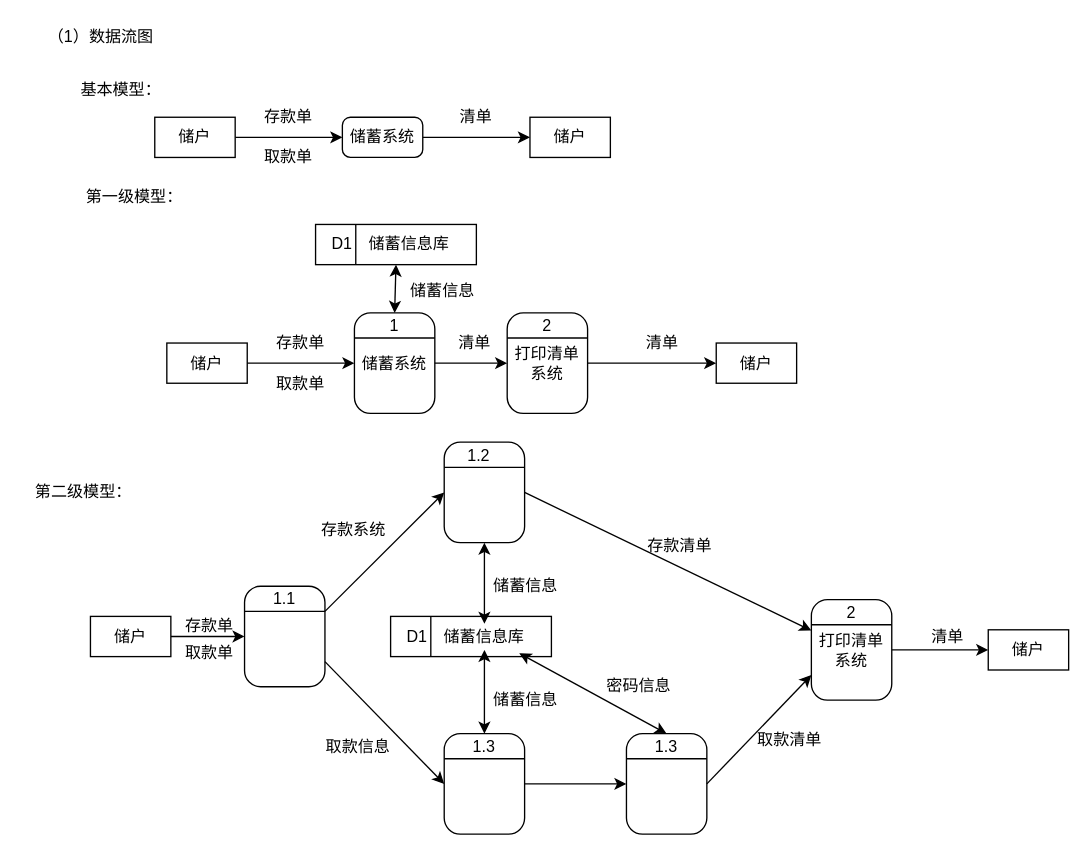
Some shapes in this 1092 by 858 pixel diagram are drawn without their labels. Here are the shapes that lost their labels. From the top down, the box of each, then its label:
(443, 441, 525, 543): 存款业务
(243, 585, 325, 687): 接受事务
(443, 732, 525, 834): 取款业务
(625, 732, 707, 834): 核对系统
